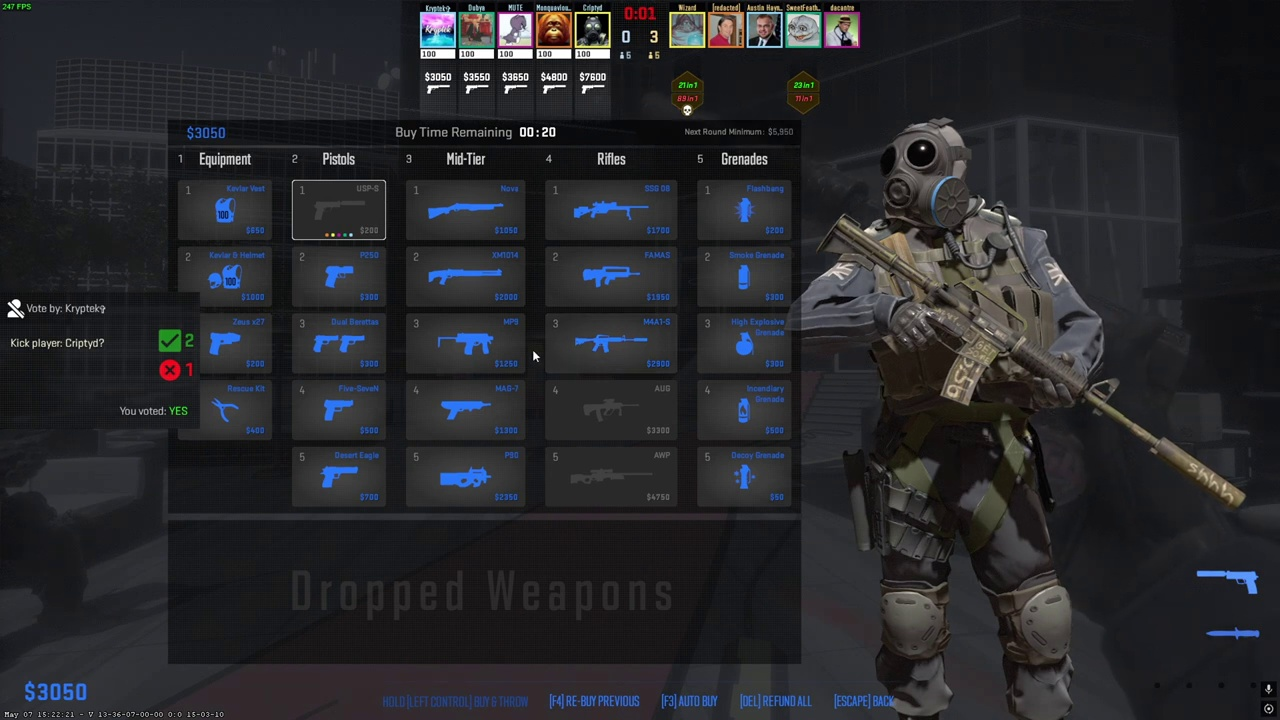CT: (853, 123, 1090, 720)
